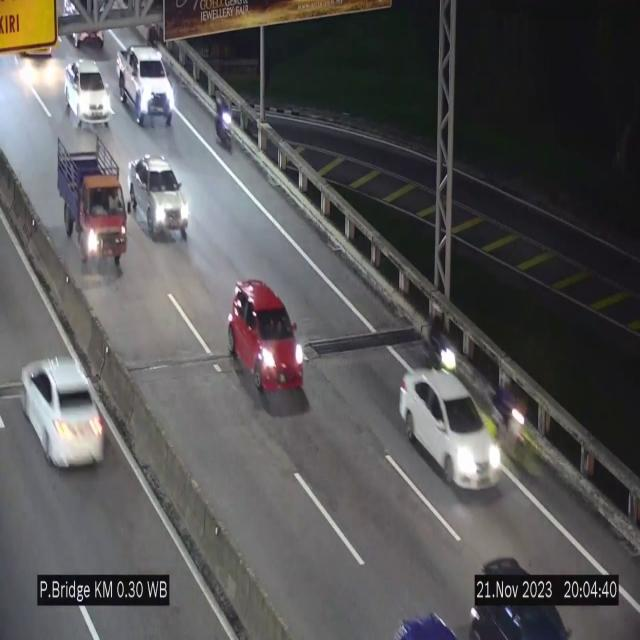Car: (400, 369, 504, 490), (228, 279, 307, 411), (125, 156, 188, 242), (116, 46, 174, 126), (65, 58, 111, 132)
Motorcycle: (496, 376, 528, 458), (428, 305, 457, 378), (214, 90, 236, 153)
Truck: (57, 138, 128, 272)
